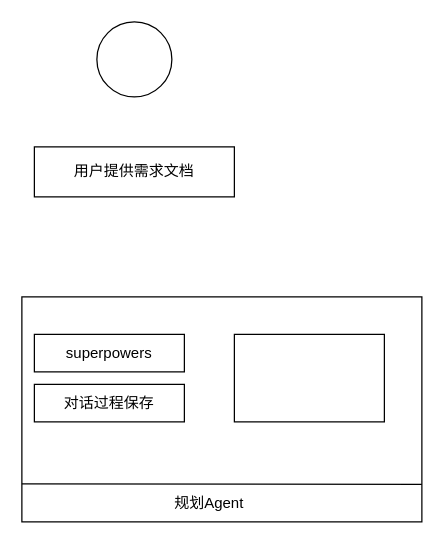
Image size: 445x544. Some labels were removed from this diagram. The box of each missing label's shape, as (x1, y1, x2, y2) in pixels:
产出技术技术方案: (233, 333, 384, 422)
开始: (96, 21, 172, 97)
